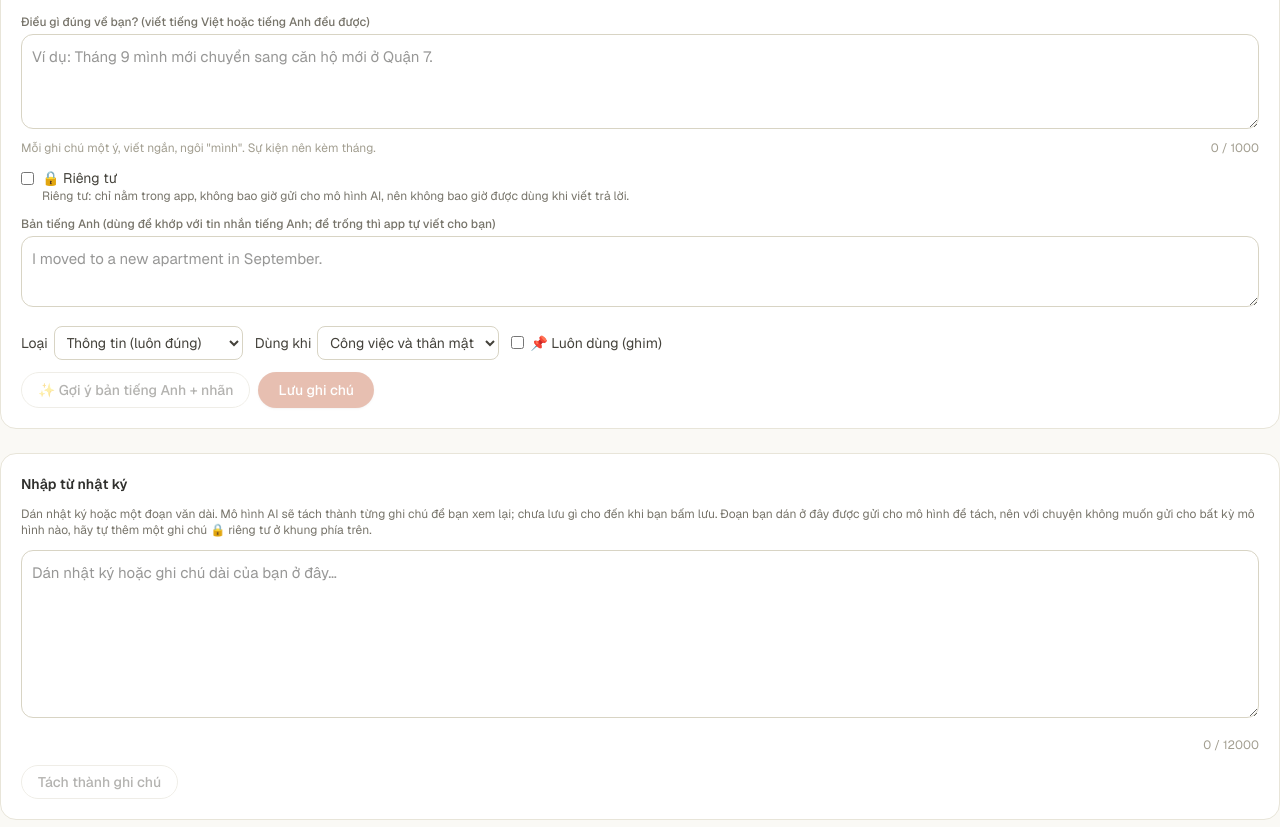
adding a note › suggests an English version and tags, which the writer can adjust before saving
The image size is (1280, 827).
Type "Tháng 9 mình mới dọn nhà." into the text box labelled "Điều gì đúng về bạn" at (640,82), box [21,34,1259,129]
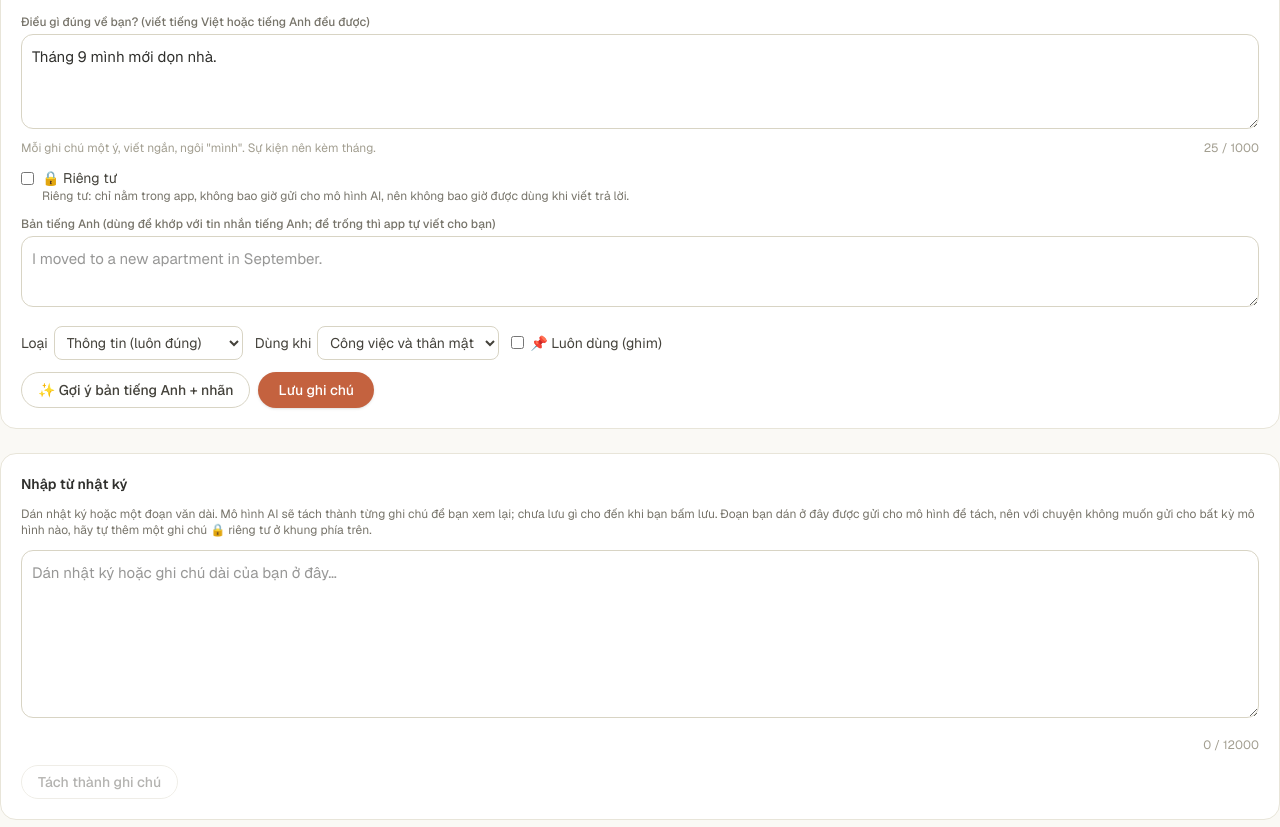
Click the button "✨ Gợi ý bản tiếng Anh + nhãn" at (136,390), box [21,372,250,408]
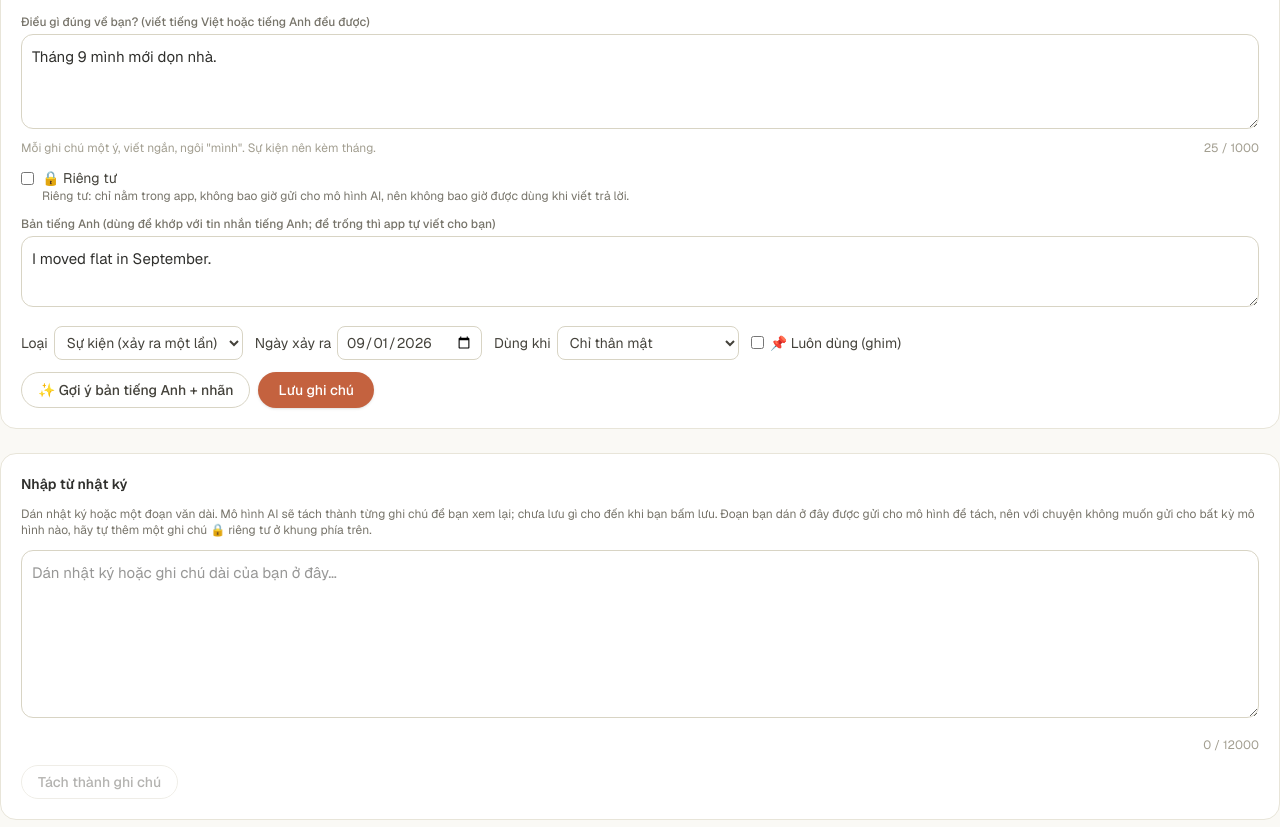
Expected: the text box labelled "Bản tiếng Anh (dùng để khớp" holds "I moved flat in September."
Expected: the date field labelled "Ngày xảy ra" holds "2026-09-01", [337,326,482,360]
Replace the text in the text box labelled "Bản tiếng Anh (dùng để khớp" with "I moved to a new flat in September." at (640,272), box [21,236,1259,307]
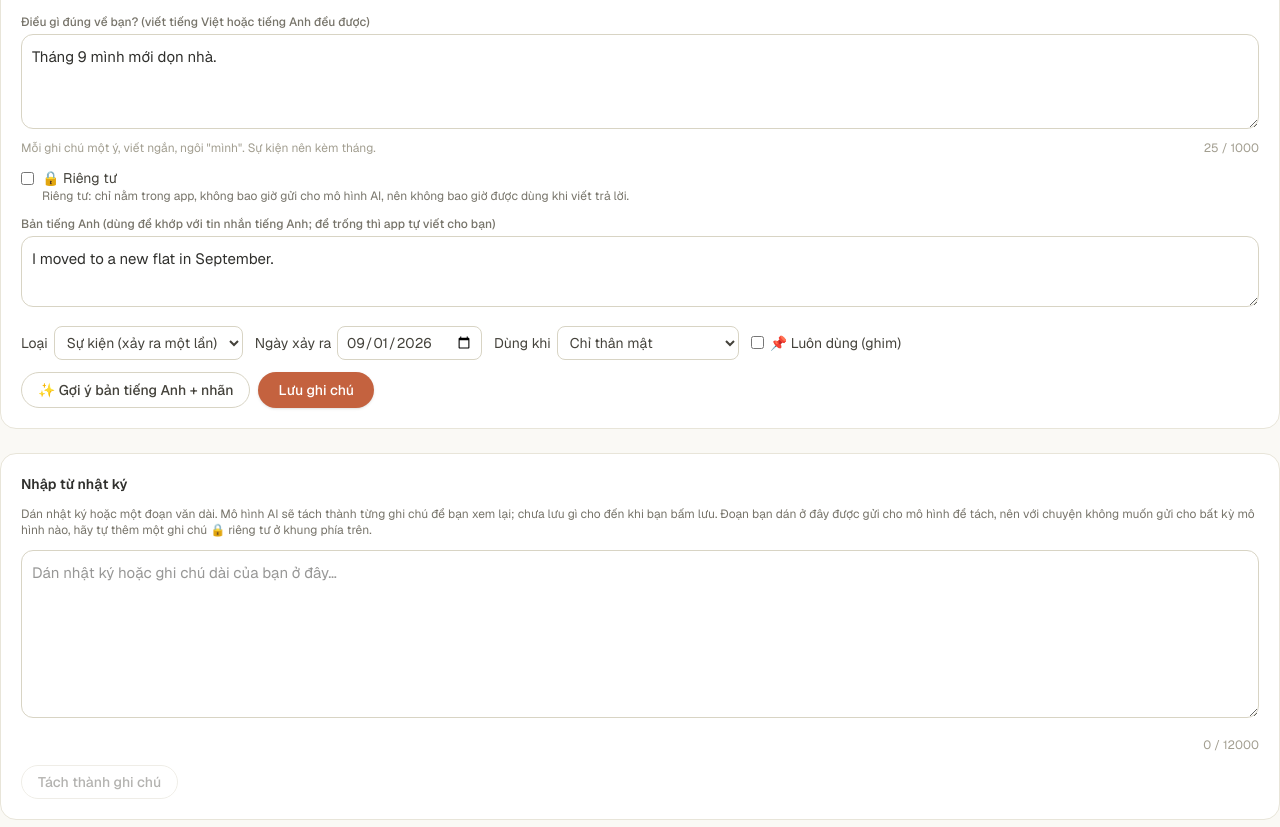
Click the button "Lưu ghi chú" at (316,390), box [258,372,374,408]
(page scrolled)
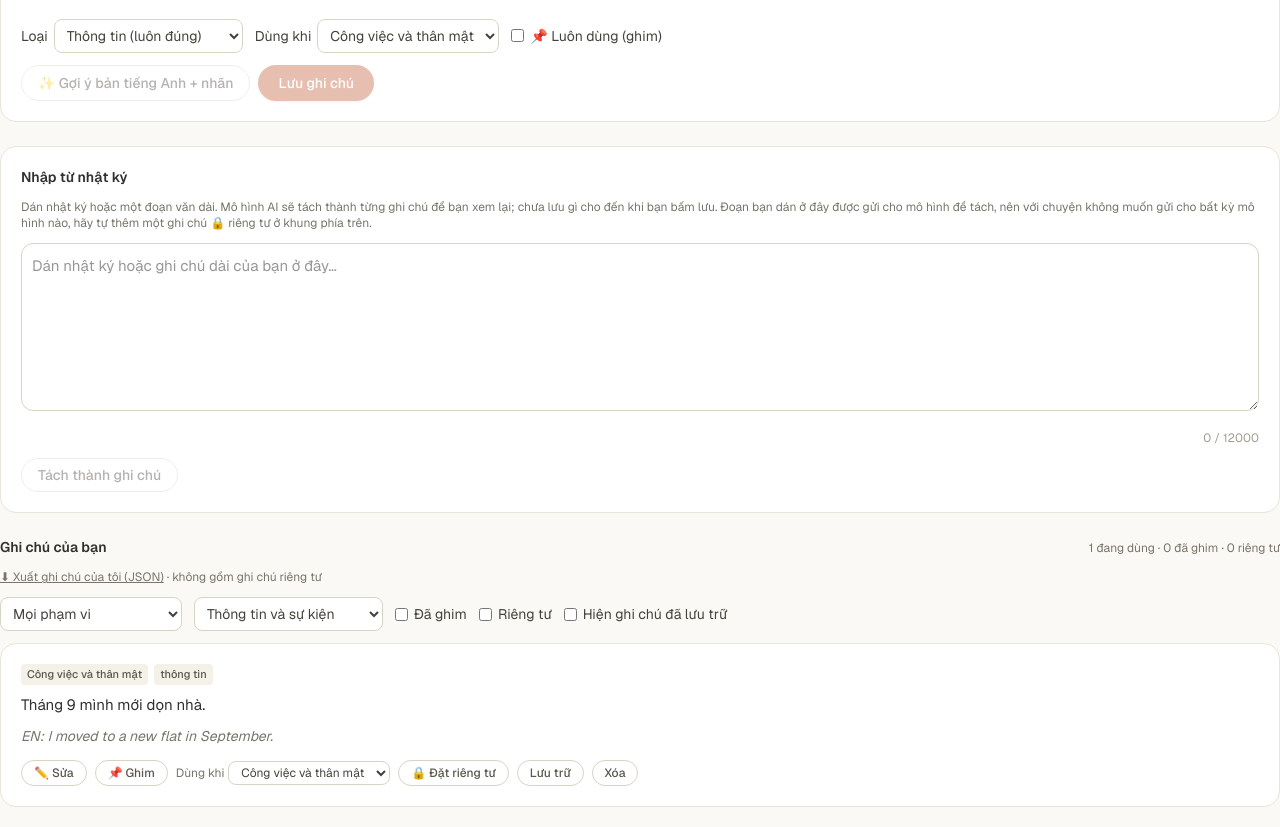
Expected: the dropdown labelled "Dùng khi" next to "📌 Luôn dùng (ghim)" shows "Công việc và thân mật", [317,19,499,53]
Expected: the dropdown labelled "Loại" shows "Thông tin (luôn đúng)", [54,19,243,53]
Expected: the text "Tháng 9 mình mới dọn nhà." is shown, [21,695,205,714]
